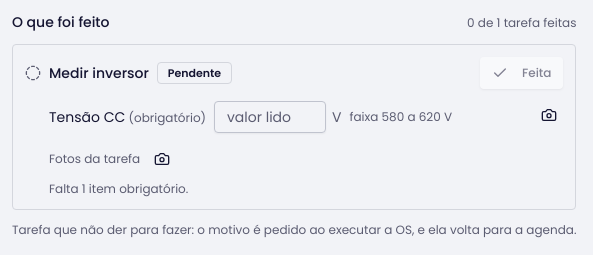
Test case: OQueFoiFeito: leituras › digitar o valor (com vírgula) grava ao sair do campo e libera a tarefa
Type "601,25" into the field labelled "Tensão CC (obrigatório)" at (270, 117), box [214,101,326,133]
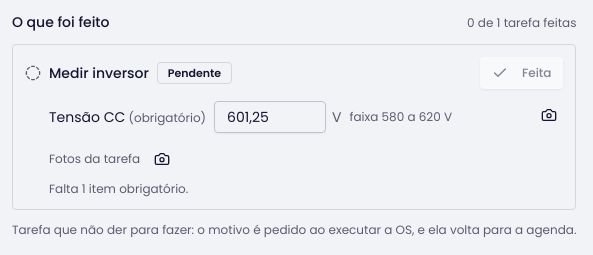
Leave the field labelled "Tensão CC (obrigatório)", box [214,101,326,133]
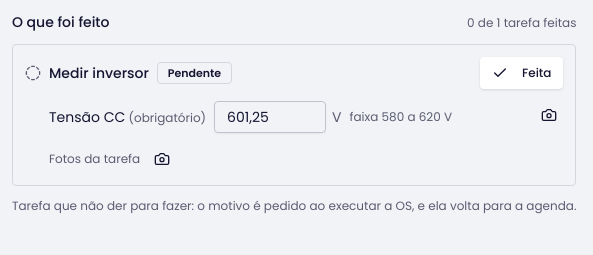
Expected: the button named "Marcar \"Medir inversor\" como feita" is enabled, [480,57,563,89]
